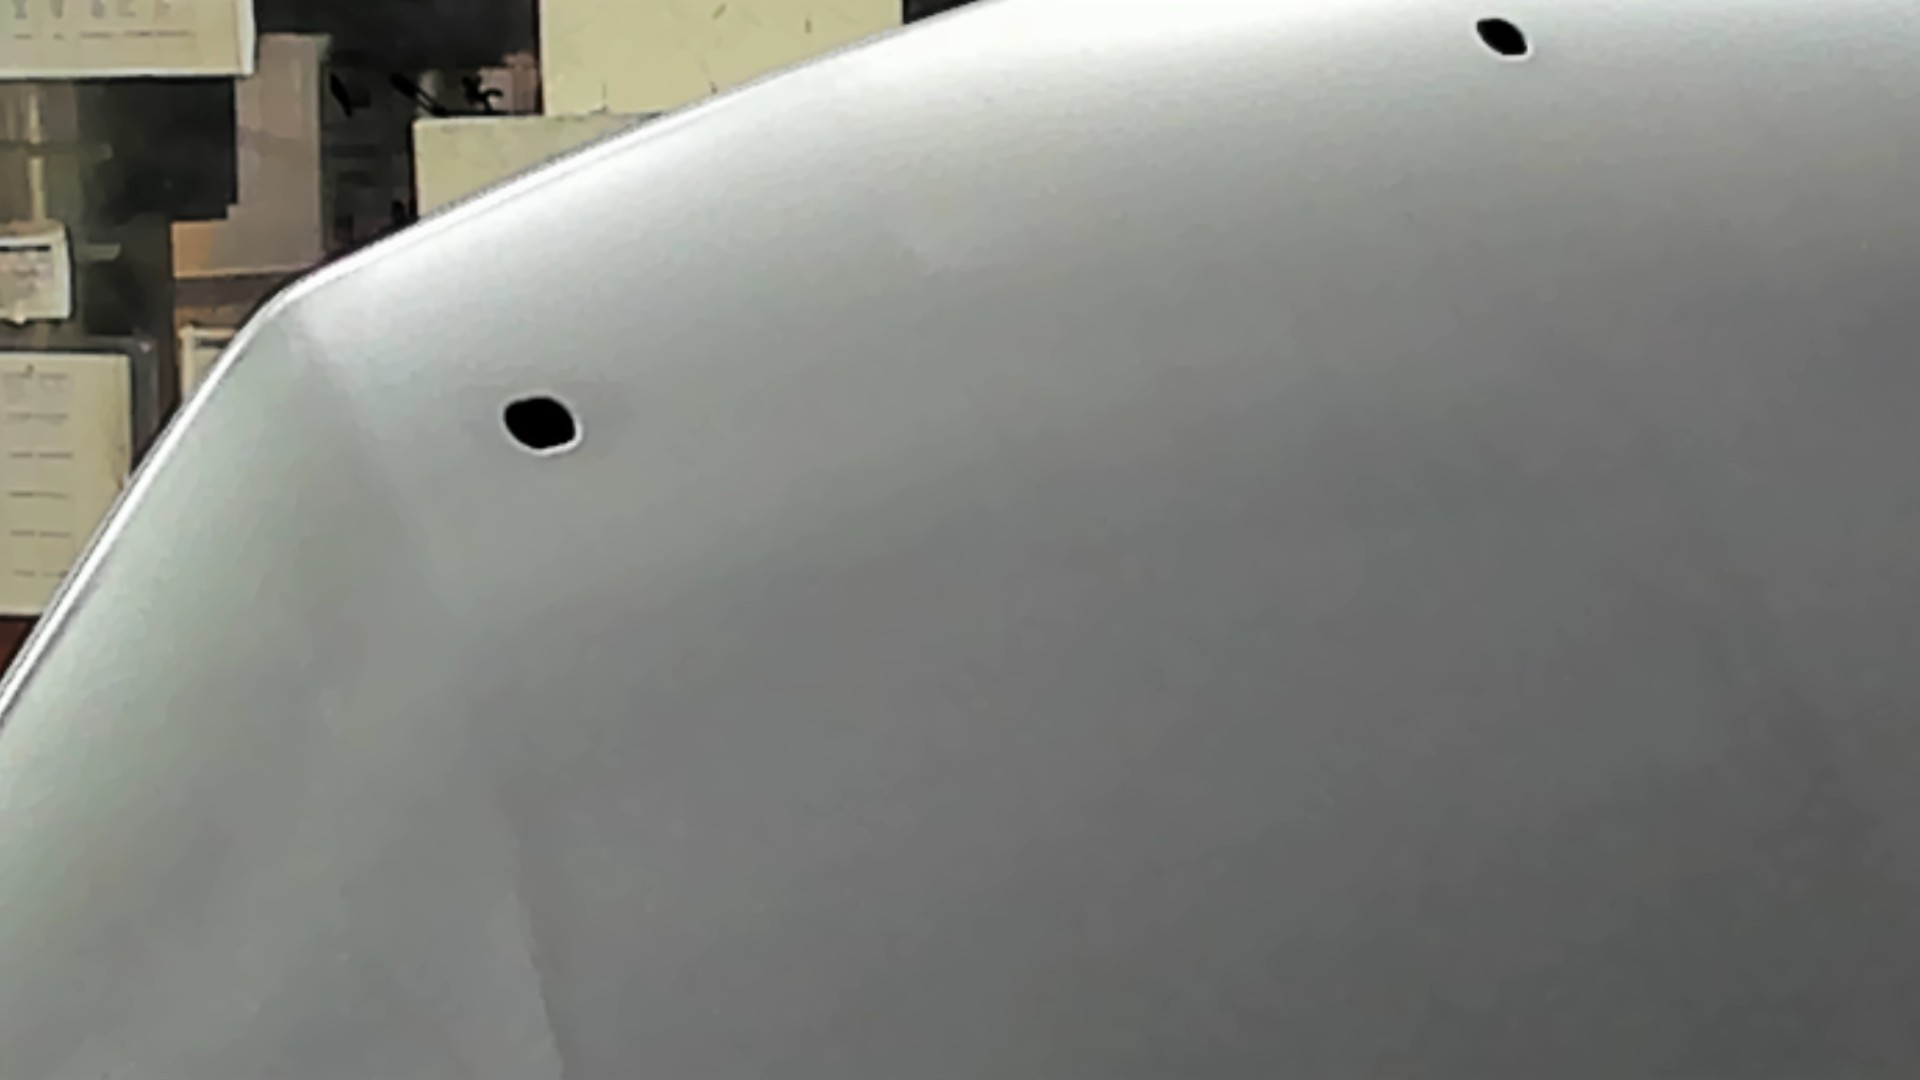amorfo: (495, 382, 589, 459), (1468, 11, 1549, 73)
capo: (748, 135, 1920, 1080)
